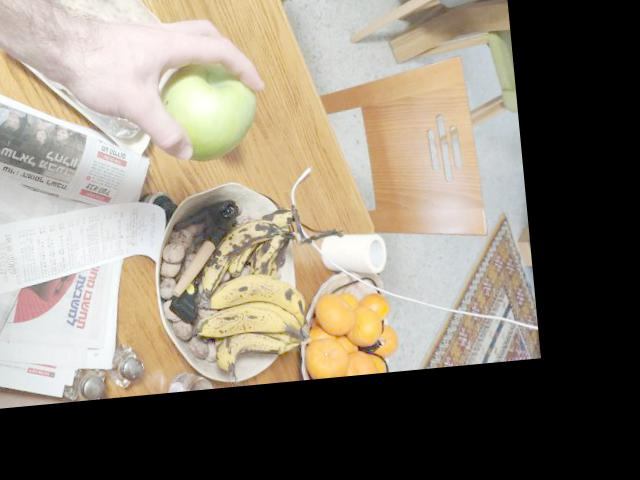apple: (147, 51, 268, 162)
